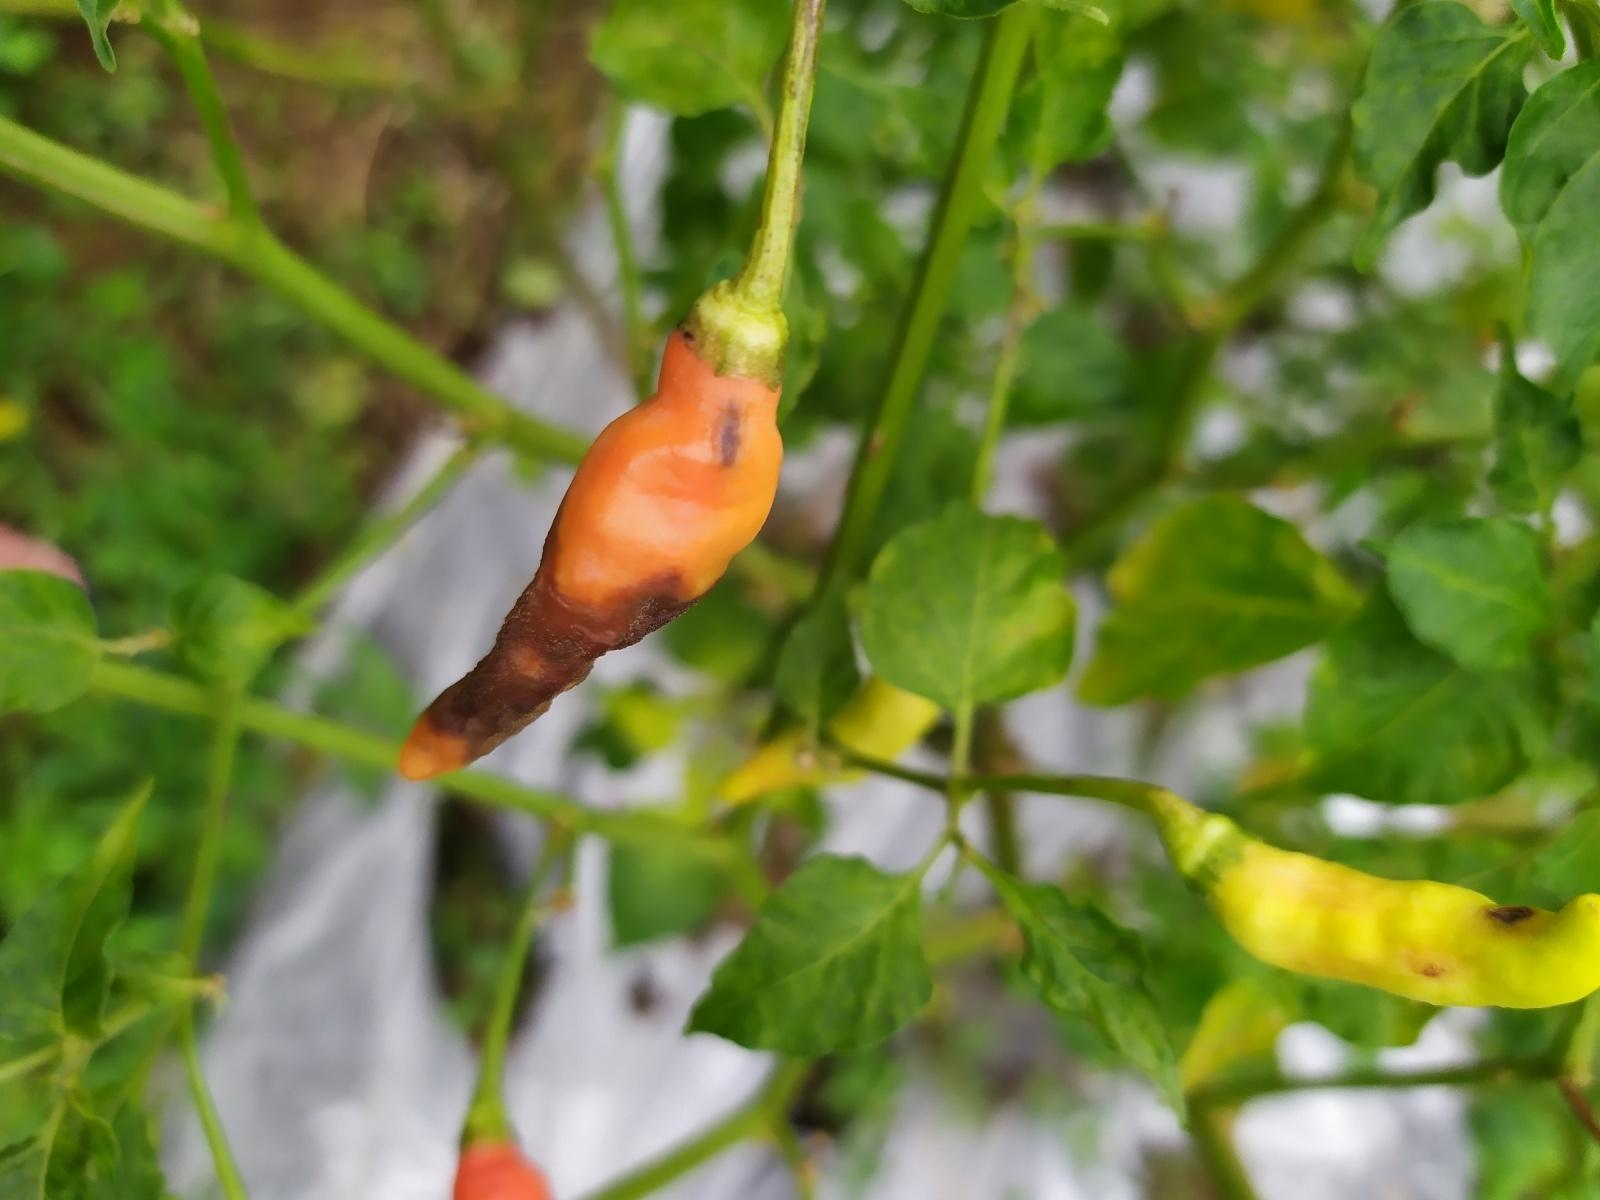antraknosa: (396, 320, 785, 783)
lalat_buah: (1203, 827, 1599, 1008)
